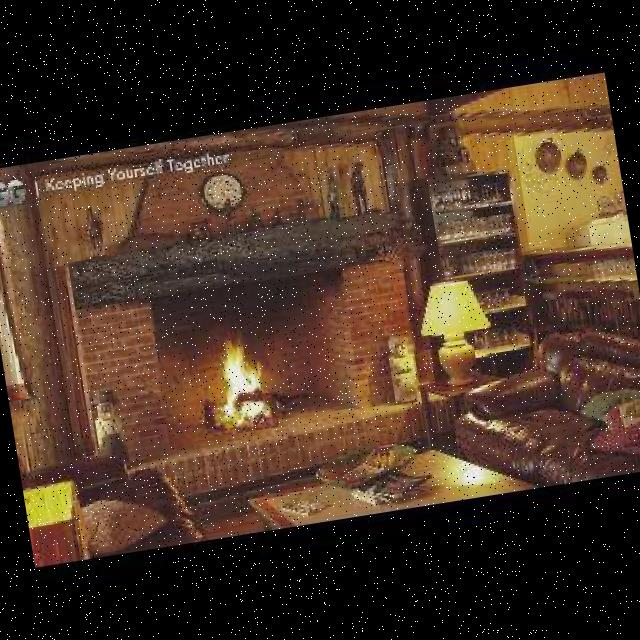fire: (192, 326, 279, 438)
